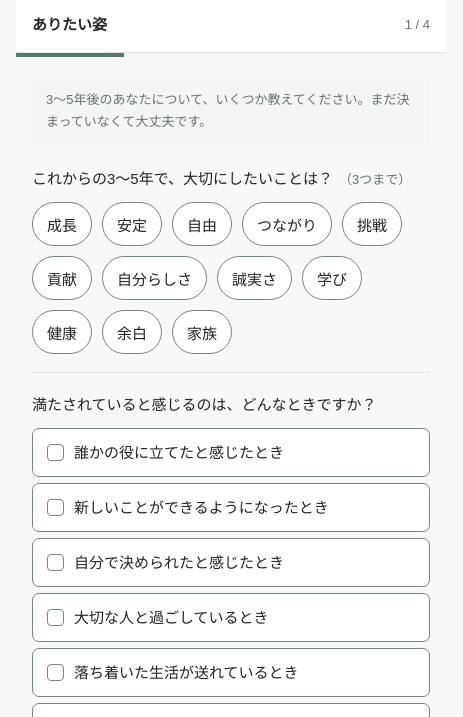
Test: S-31 › 価値観は3つを超えて選べない(4つめのチップが無効になる)
The image size is (463, 717).
Click the button with class "chip-multi-select__chip" showing "成長" at (62, 224), box [32, 202, 92, 246]
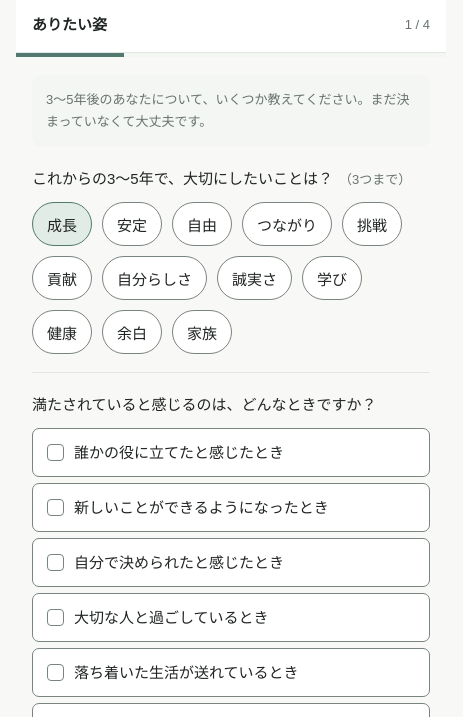
Click the button with class "chip-multi-select__chip" showing "安定" at (132, 224), box [102, 202, 162, 246]
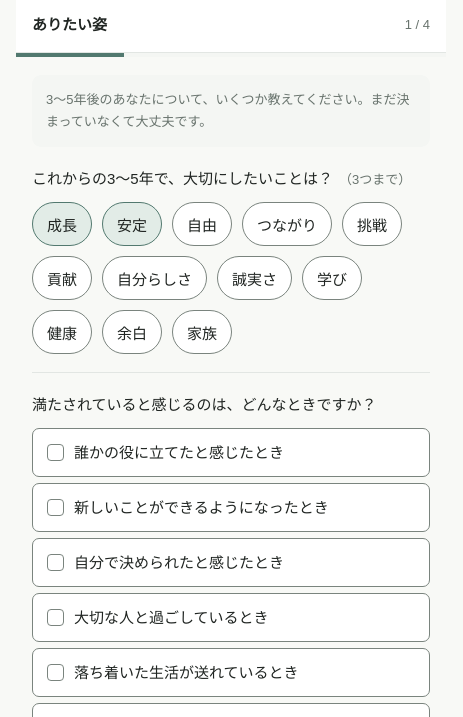
Click the button with class "chip-multi-select__chip" showing "自由" at (202, 224), box [172, 202, 232, 246]
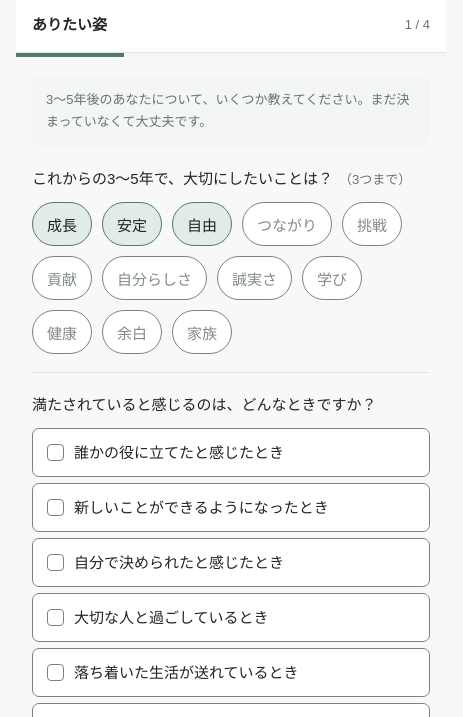
Now the button with class "chip-multi-select__chip" showing "つながり" is disabled, box [242, 202, 332, 246]
